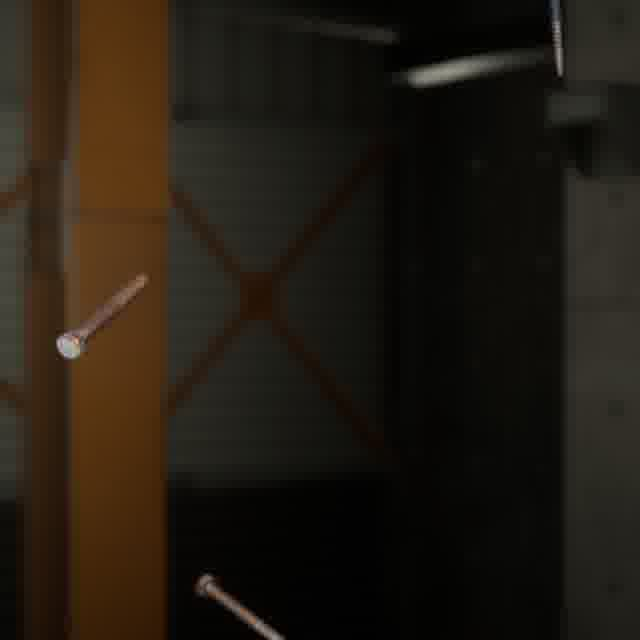bolt: (51, 269, 153, 363), (191, 569, 290, 640)
